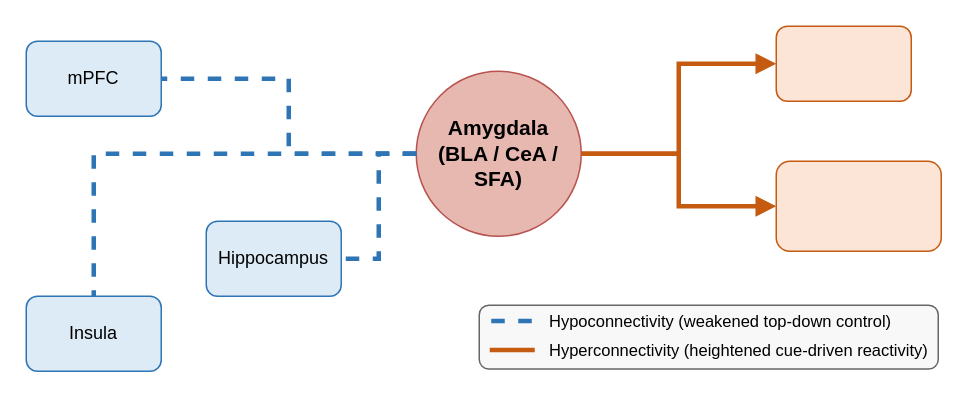
Some shapes in this 968 by 398 pixel diagram are drawn without their labels. The shapes that lost their labels are listed below. From the top down, each one's centre as x and y in pixels, then its label:
(843,63): Thalamus
(858,205): Sensorimotor Cortex
